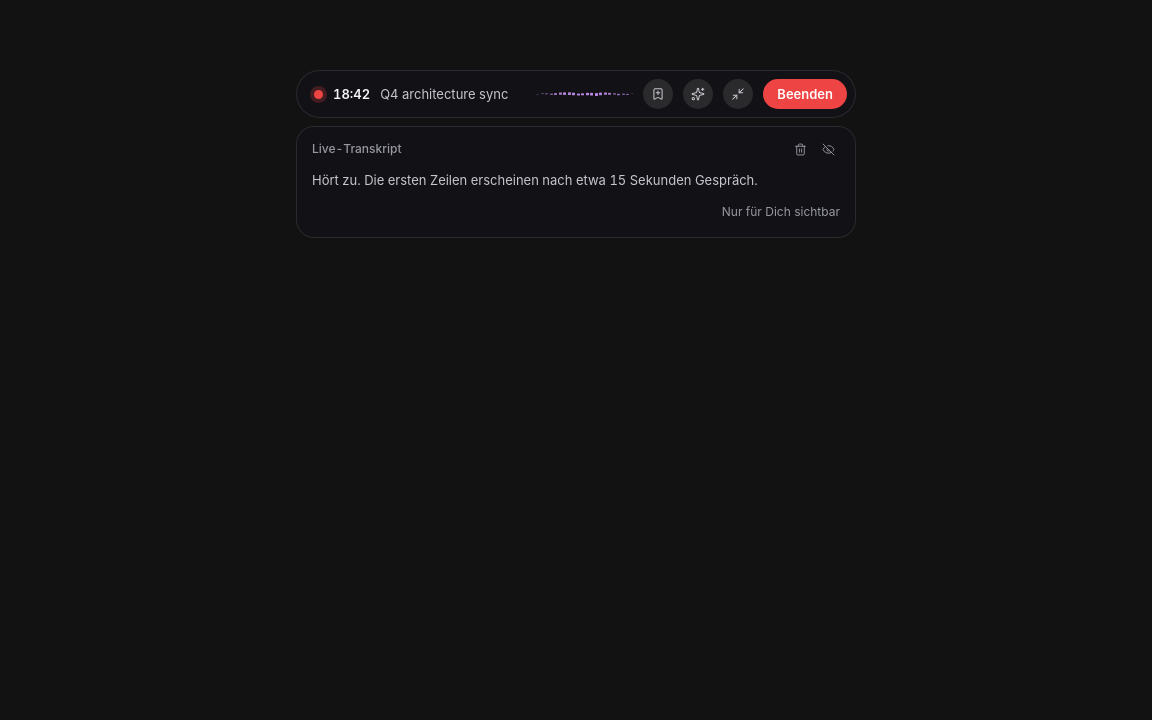
Test: HUD discard › asks first, can be cancelled, then discards and is ready again
expect the button with class "kxd-mb-end" is shown: met, box 763,79 -> 847,109
Click the button named "Aufnahme verwerfen": x=800, y=149 788,137 -> 812,161
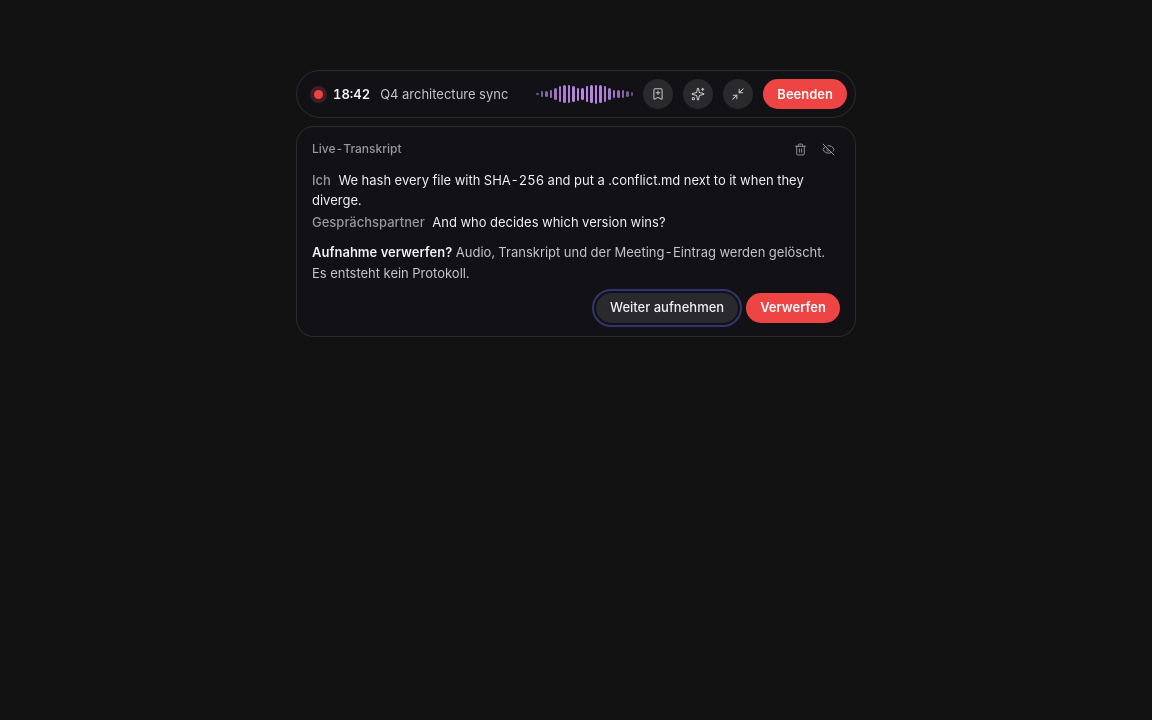
expect the dialog with class "kxd-mb-confirm" is shown: met, box 312,242 -> 840,323
Note: "Keep recording" folds the question back.
Click the button "Weiter aufnehmen": x=667, y=308 596,293 -> 738,323
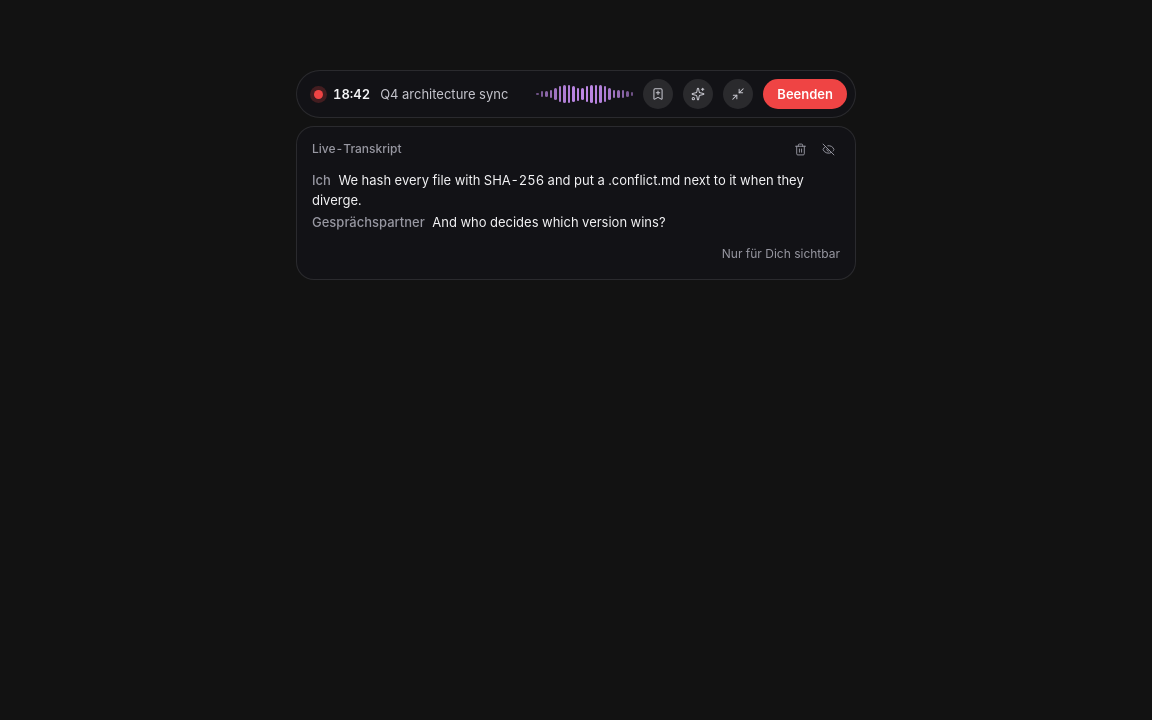
expect the dialog with class "kxd-mb-confirm" is gone: met
Click the button named "Aufnahme verwerfen": x=800, y=149 788,137 -> 812,161
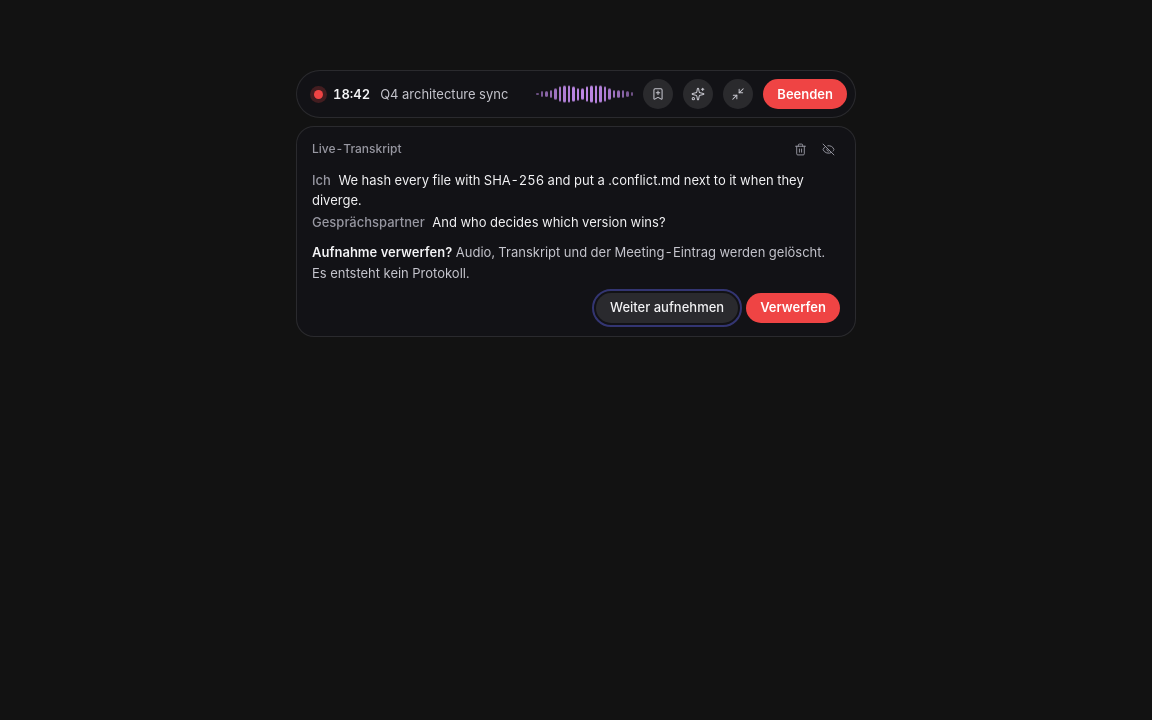
Click the button "Verwerfen": x=793, y=308 746,293 -> 840,323
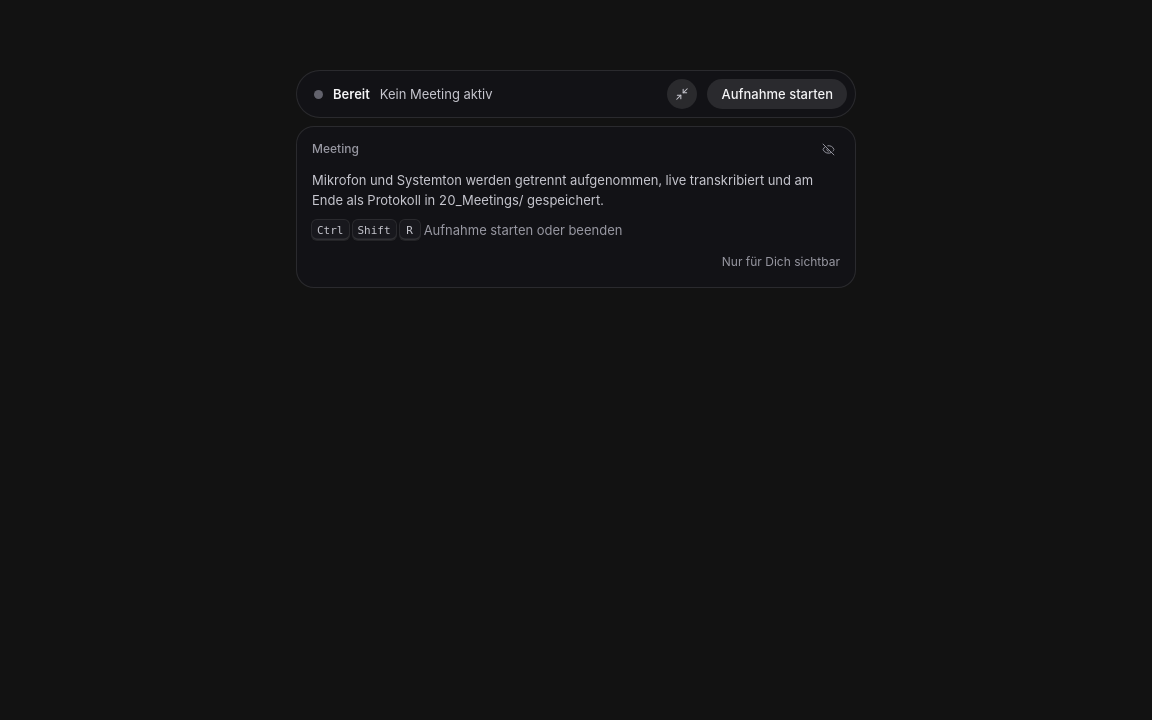
expect the element with class "kxd-hud" has attribute data-phase="idle": met, box 296,70 -> 856,288
